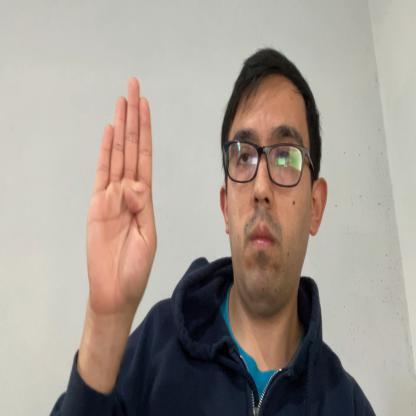B: (86, 76, 158, 316)
